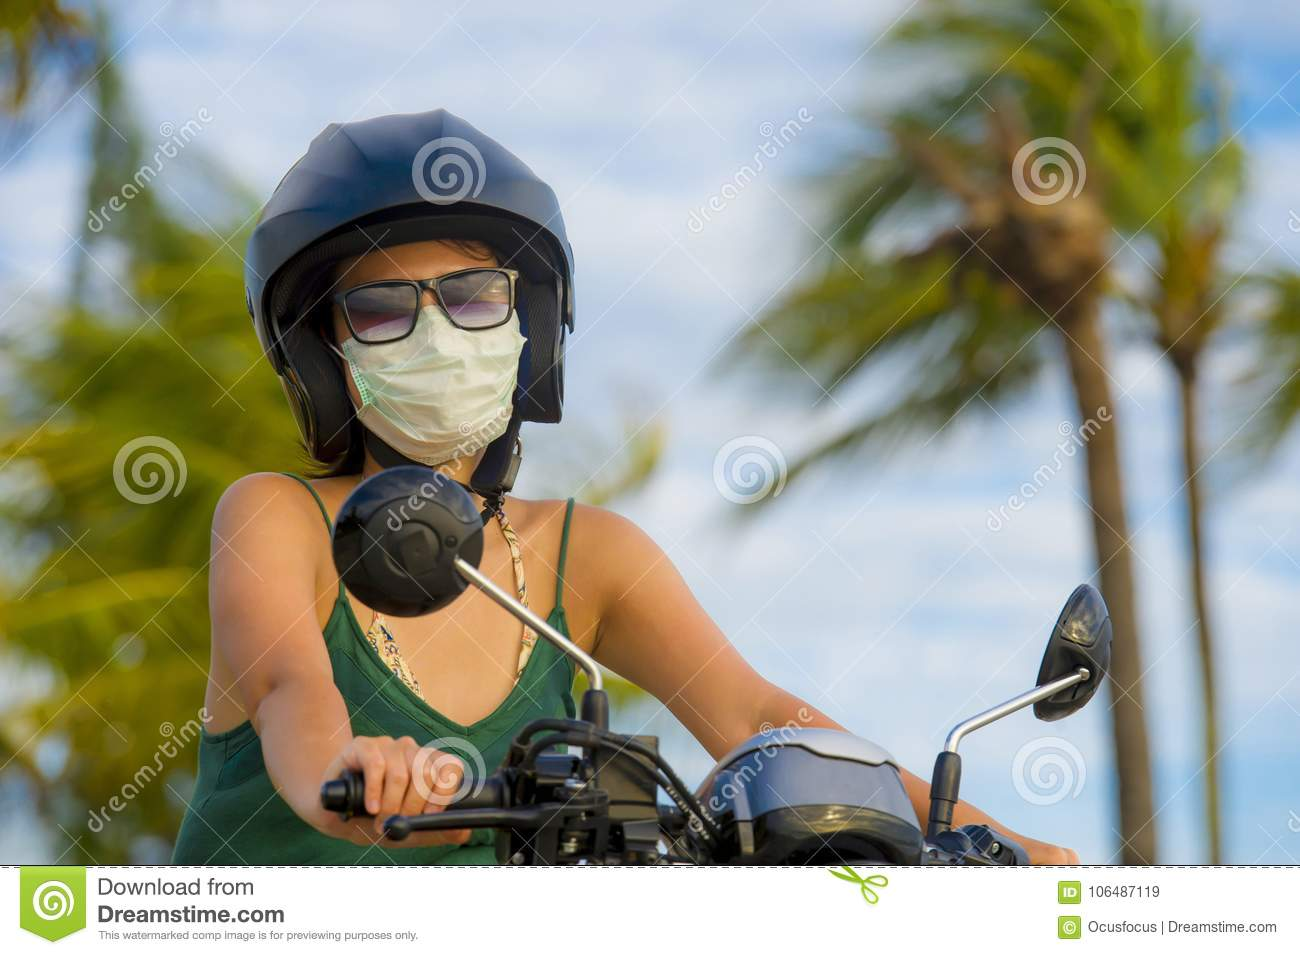helmet: (236, 125, 565, 418)
